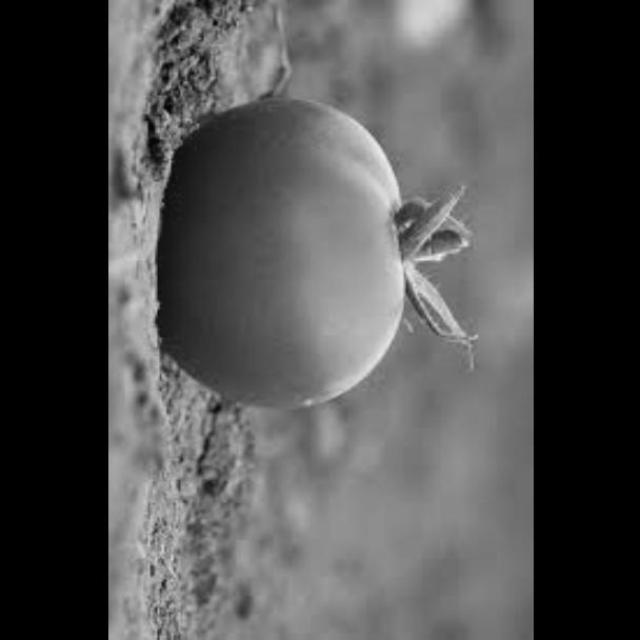tomato: (155, 98, 422, 416)
